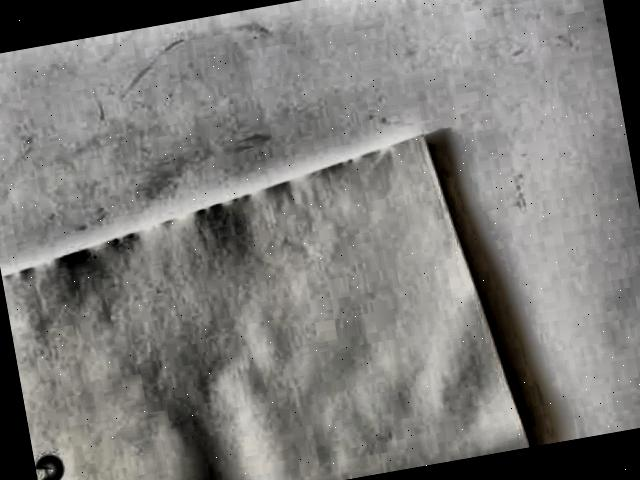Paper: (0, 113, 561, 480)
